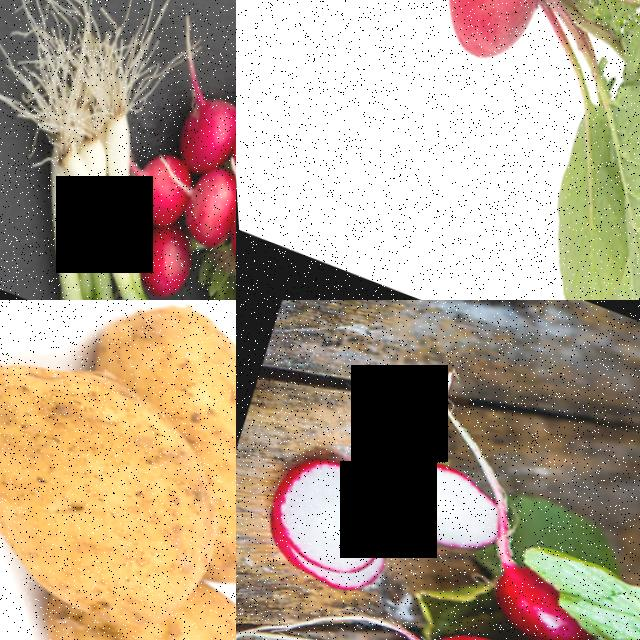potato: (0, 317, 236, 640), (79, 300, 236, 444), (94, 563, 236, 640)
radishes: (88, 0, 236, 300), (335, 522, 640, 640), (394, 0, 640, 139), (251, 448, 414, 605), (372, 448, 517, 564)
